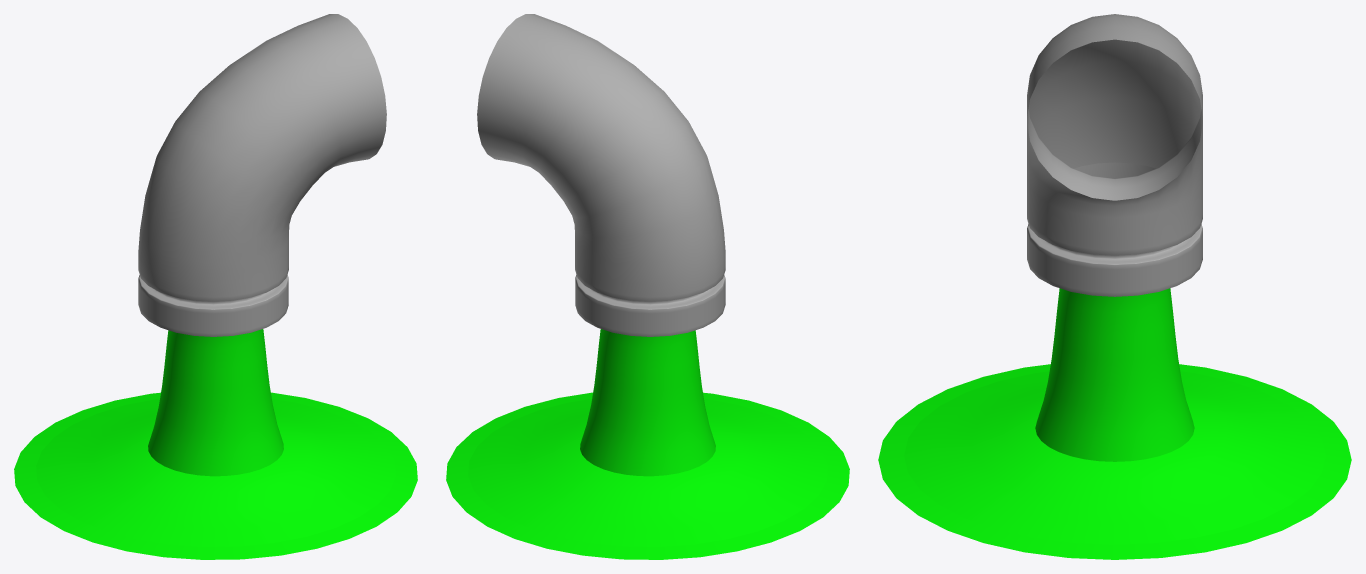
The model's file is ToxicWastePrefab.fbx.
The picture shows the model from 3 angles, left to right: view 1: azimuth 30°, elevation 25°; view 2: azimuth 150°, elevation 25°; view 3: azimuth 270°, elevation 25°; orthographic projection. The views are drawn at different scales.
Visible parts, largest first — view 1: Pipe, Puddle, Waterfall; view 2: Pipe, Puddle, Waterfall; view 3: Puddle, Pipe, Waterfall.
Part boxes in pixels (bbox=[...]): Pipe: bbox=[138, 14, 386, 336]; Puddle: bbox=[14, 392, 417, 559]; Waterfall: bbox=[148, 329, 283, 476]; Pipe: bbox=[477, 14, 725, 336]; Puddle: bbox=[446, 392, 849, 559]; Waterfall: bbox=[580, 329, 715, 476]; Puddle: bbox=[878, 364, 1351, 559]; Pipe: bbox=[1027, 14, 1202, 296]; Waterfall: bbox=[1035, 288, 1194, 461].
Size of the model in its own units: 5.21 by 6.01 by 5.21.
